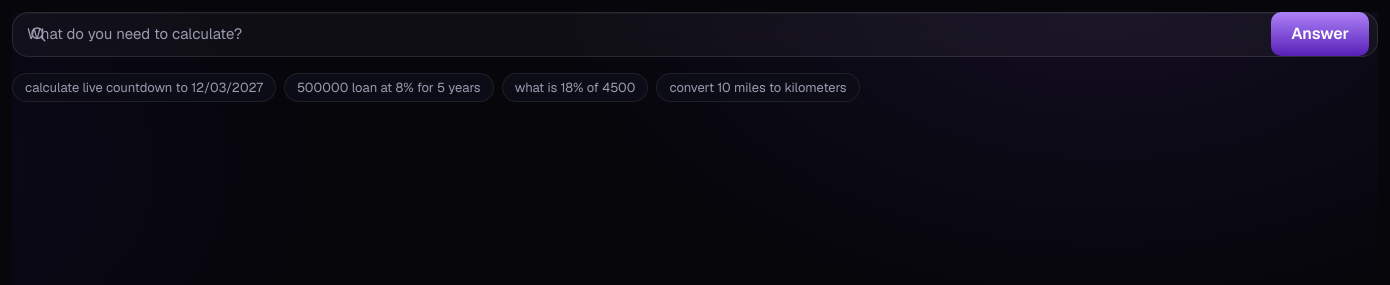
Test: IntentSearch › shows an interpretation suggestion for a medium-confidence query instead of guessing
The width and height of the screenshot is (1390, 285).
Type "how much rent can I afford" into the field at {"x": 695, "y": 34}, box [13, 13, 1377, 56]
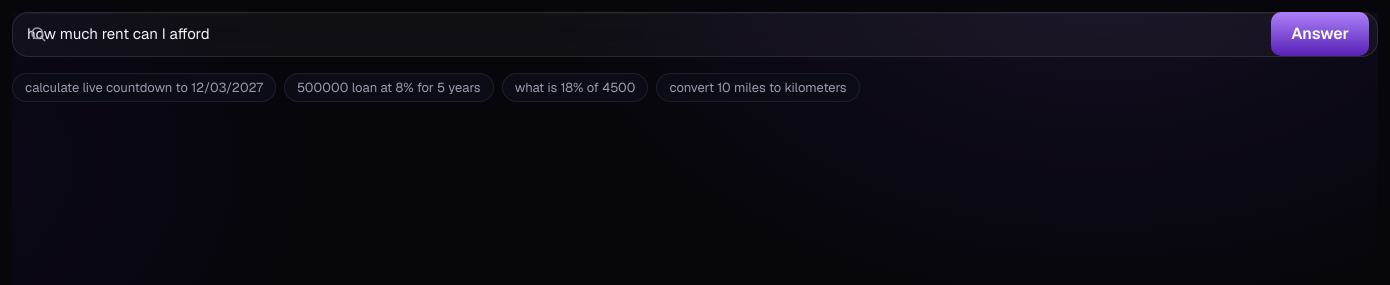
Submit the form, box [12, 12, 1378, 56]
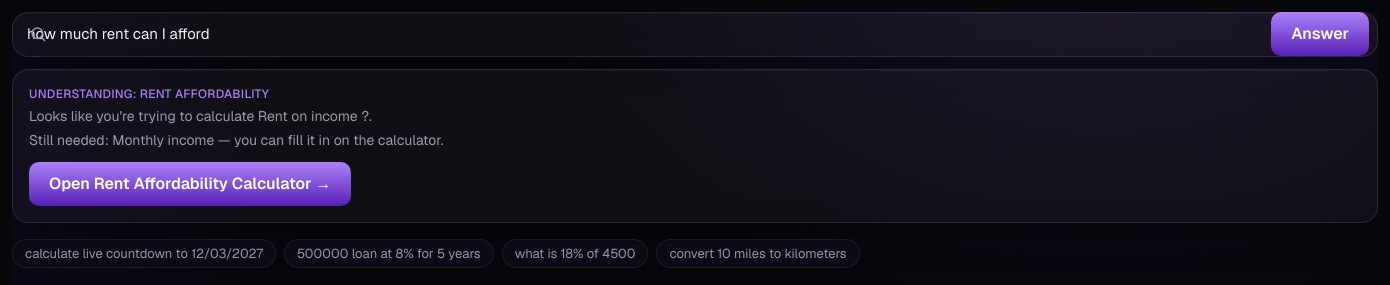
Expected: the text "Understanding: Rent Affordability" is shown, [29, 86, 269, 102]
Expected: the text "Looks like you're trying to calculate Rent on income ?." is shown, [29, 106, 372, 124]
Expected: the text "Still needed:" is shown, [29, 130, 112, 148]
